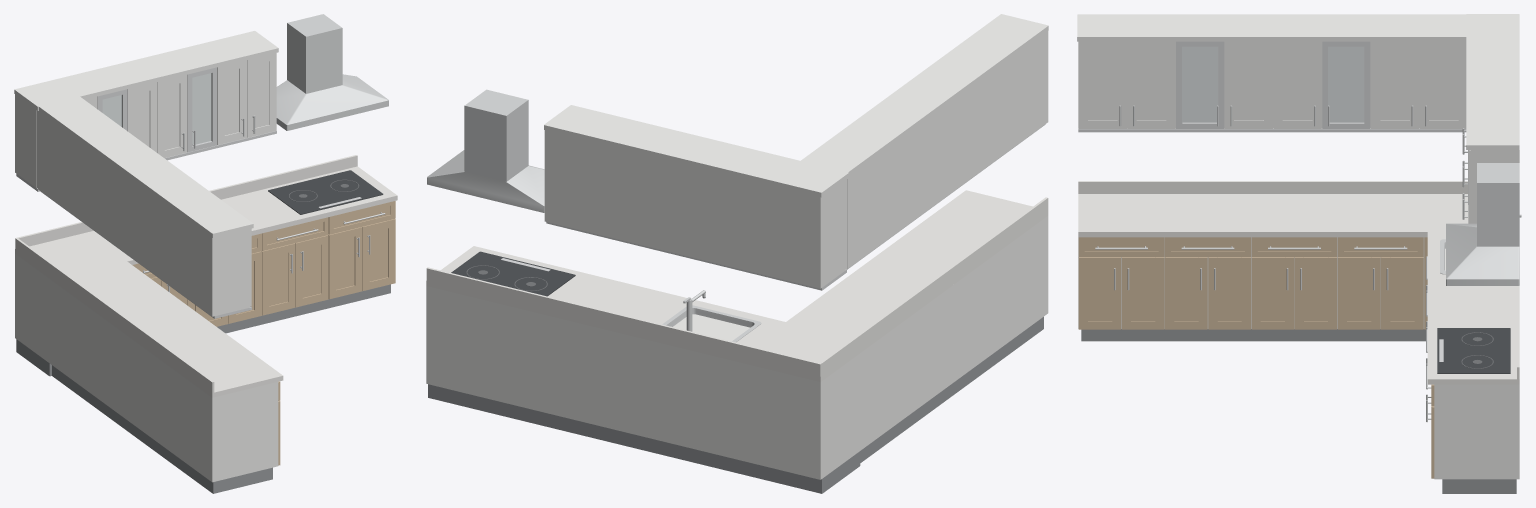
3 views of the same model, side by side, from view 1: azimuth 30°, elevation 25°; view 2: azimuth 150°, elevation 25°; view 3: azimuth 270°, elevation 25° (orthographic). The views are drawn at different scales.
Visible parts, largest first — view 1: Tủ bếp chữ L Dài cạnh chính=3000; Dài cạnh phụ=3000; Sâu tủ ; view 2: Tủ bếp chữ L Dài cạnh chính=3000; Dài cạnh phụ=3000; Sâu tủ ; view 3: Tủ bếp chữ L Dài cạnh chính=3000; Dài cạnh phụ=3000; Sâu tủ .
Part boxes in pixels (x1,y1,x2,y2): Tủ bếp chữ L Dài cạnh chính=3000; Dài cạnh phụ=3000; Sâu tủ : (14,14,397,493); Tủ bếp chữ L Dài cạnh chính=3000; Dài cạnh phụ=3000; Sâu tủ : (426,14,1048,493); Tủ bếp chữ L Dài cạnh chính=3000; Dài cạnh phụ=3000; Sâu tủ : (1077,14,1521,493).
Size of the model in its own units: 3.01 by 2.2 by 3.02.
